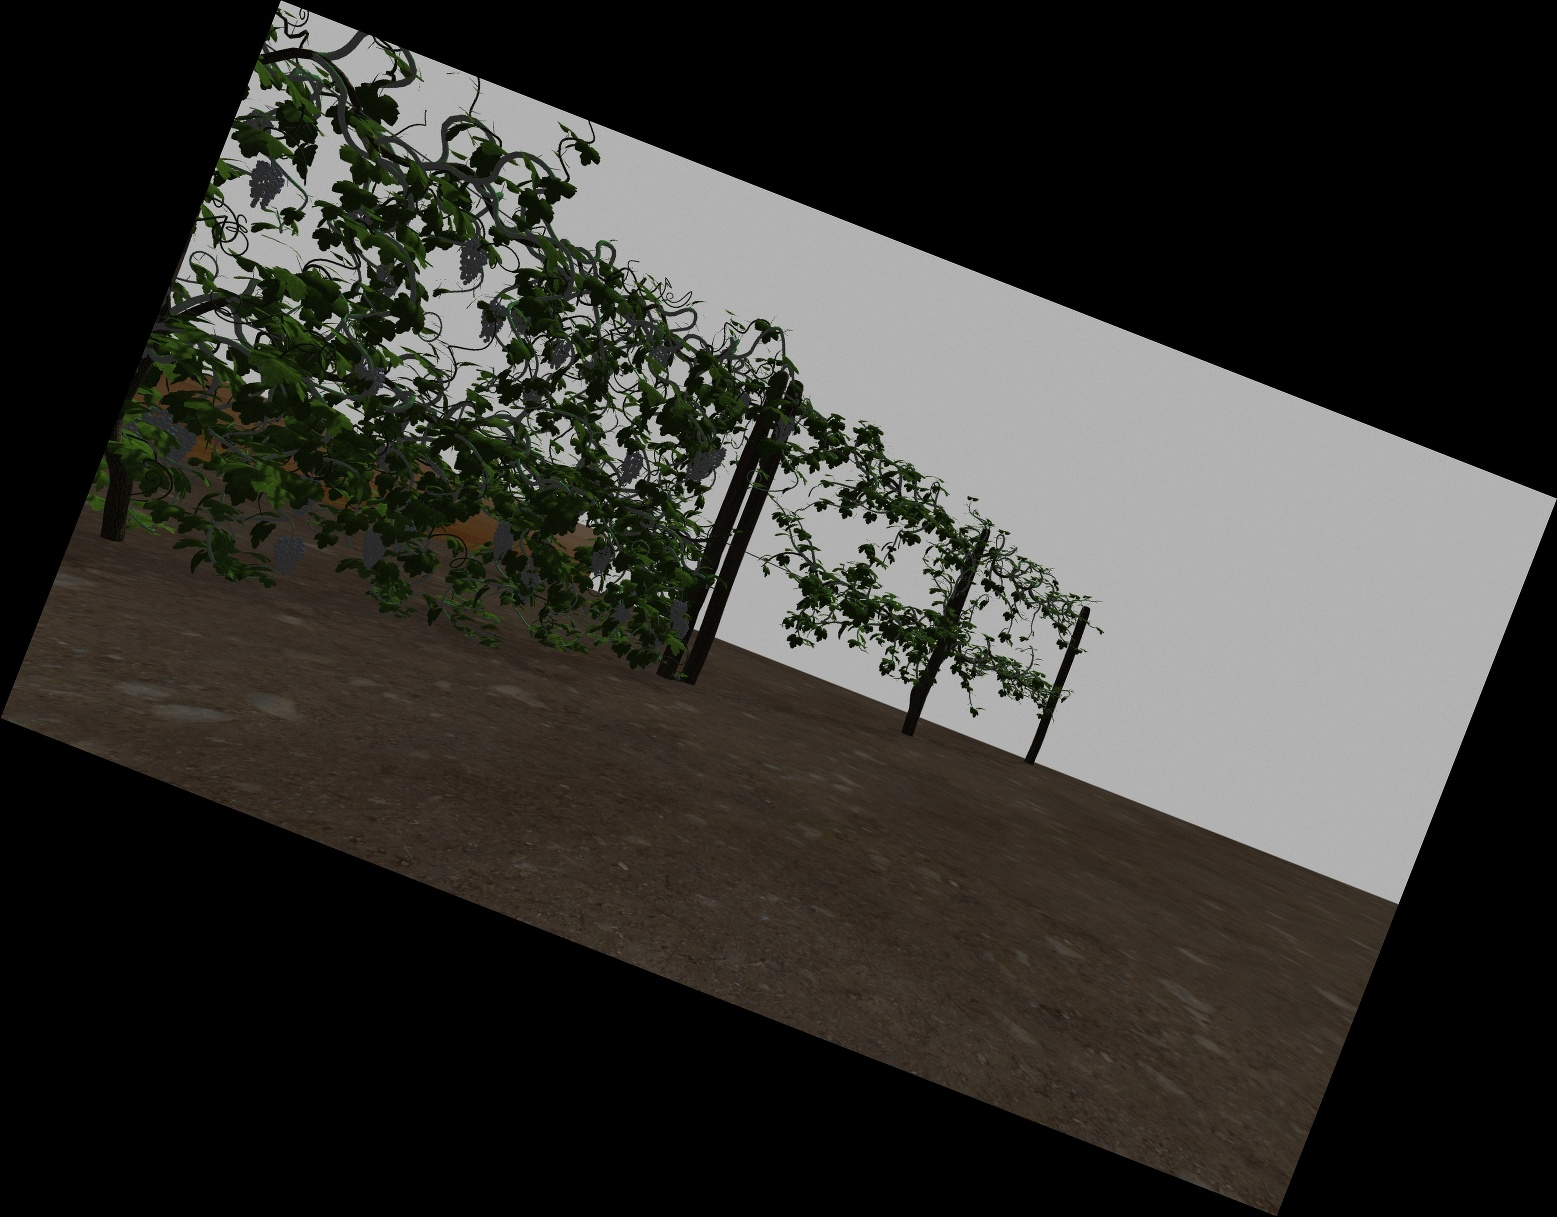grape: (246, 162, 281, 209), (457, 239, 485, 286), (270, 535, 303, 572), (360, 527, 387, 570), (166, 428, 195, 466), (349, 366, 382, 396), (479, 302, 502, 342), (492, 521, 513, 562), (143, 408, 173, 430), (591, 543, 610, 576), (623, 452, 642, 483), (548, 340, 567, 370), (773, 417, 794, 445), (691, 452, 710, 481), (519, 570, 541, 590), (708, 445, 725, 468), (613, 604, 632, 624), (672, 617, 689, 639), (670, 599, 686, 621)
